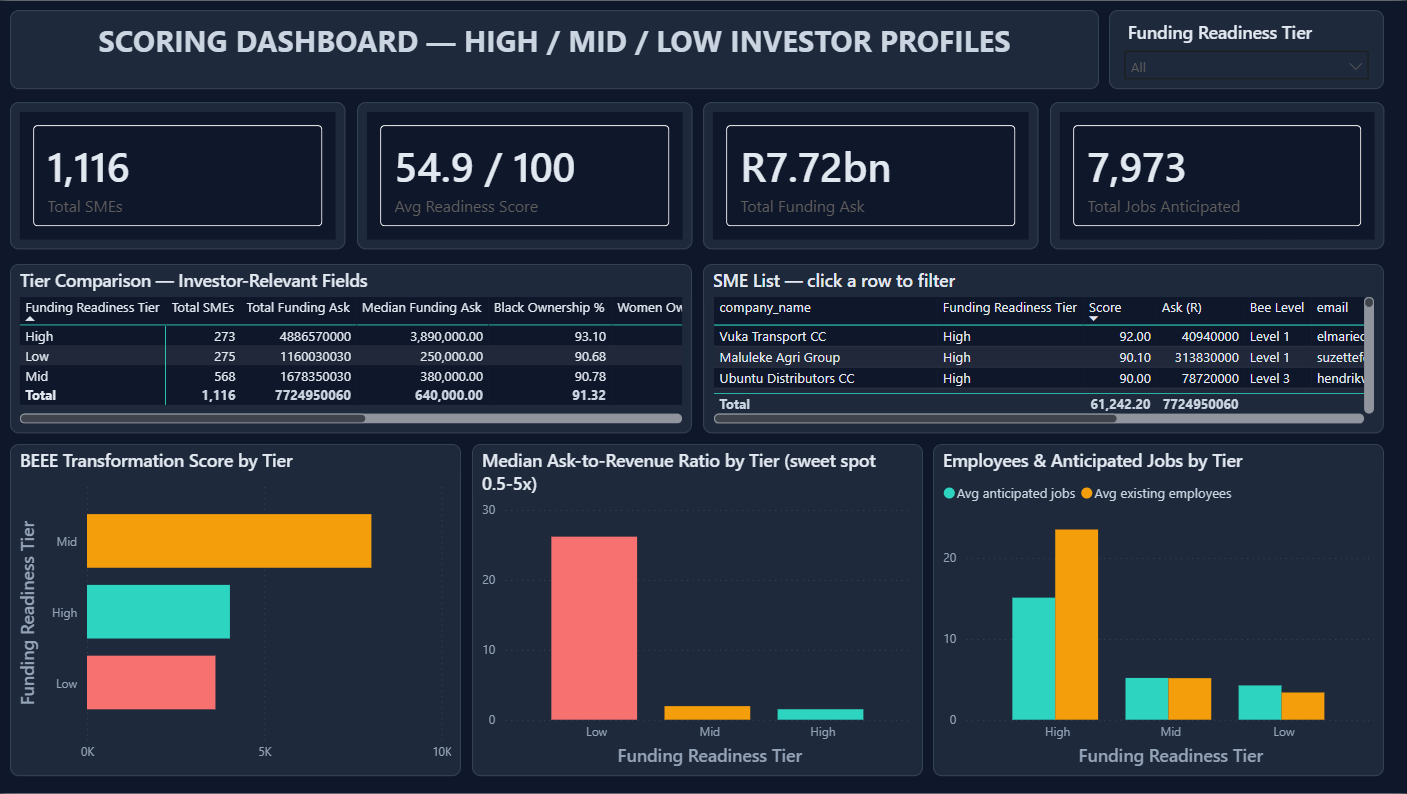

Layout of this report page (visuals, bound fields, positions):
{"tool":"powerbi","page":{"name":"Funding Readiness Tiers","canvas":[1280,720],"ordinal":1},"visuals":[{"type":"textbox","box":[9.9,8.1,990.2,71.8],"z":0},{"type":"slicer","fields":{"Values":["Funding Readiness.readiness_tier"]},"box":[1009.1,8.1,250.5,71.8],"z":1000},{"type":"cardVisual","fields":{"Data":["Clean Data.KPI Total SMEs"]},"box":[9.9,91.5,305.4,134.2],"z":2000},{"type":"cardVisual","fields":{"Data":["Clean Data.KPI Avg Score"]},"box":[325,91.5,305.4,134.2],"z":3000},{"type":"cardVisual","fields":{"Data":["Clean Data.KPI Total Ask"]},"box":[640.1,91.5,305.4,134.2],"z":4000},{"type":"cardVisual","fields":{"Data":["Funding Readiness.KPI Jobs"]},"box":[955.3,91.5,304.4,134.2],"z":5000},{"type":"pivotTable","title":"Tier Comparison — Investor-Relevant Fields","fields":{"Rows":["Funding Readiness.readiness_tier"],"Values":["Funding Readiness.Total SMEs","Funding Readiness.Total Funding Ask","Funding Readiness.Median Funding Ask","Avg(Funding Readiness.black_ownership_pct)","Avg(Funding Readiness.women_ownership_pct)","Avg(Funding Readiness.disability_ownership_pct)","Avg(Funding Readiness.youth_ownership_pct)","Funding Readiness.Avg Readiness Score"]},"box":[9.9,238.8,620.3,153.5],"z":6000},{"type":"clusteredBarChart","title":"BEEE Transformation Score by Tier","fields":{"Category":["Funding Readiness.readiness_tier"],"Y":["Sum(Funding Readiness.pts_transformation)"]},"box":[9.9,403.1,410.3,301.6],"z":7000},{"type":"clusteredColumnChart","title":"Median Ask-to-Revenue Ratio by Tier (sweet spot 0.5-5x)","fields":{"Category":["Funding Readiness.readiness_tier"],"Y":["Median(Funding Readiness.ask_to_revenue_ratio)"]},"box":[430,403.1,410.3,301.6],"z":8000},{"type":"tableEx","title":"SME List — click a row to filter","fields":{"Values":["Funding Readiness.company_name","Funding Readiness.Funding Readiness Tier","Sum(Funding Readiness.funding_readiness_score)","Sum(Funding Readiness.funding_ask_zar)","Clean Data.bee_level_raw","Clean Data.email","Clean Data.contact_number","Clean Data.contact_name"]},"box":[640.1,238.8,619.5,153.5],"z":9000},{"type":"clusteredColumnChart","title":"Employees & Anticipated Jobs by Tier","fields":{"Category":["Funding Readiness.readiness_tier"],"Y":["Avg(Funding Readiness.jobs_anticipated)","Avg(Funding Readiness.employees)"]},"box":[849.3,403.1,410.3,301.6],"z":10000}]}

Visuals, with their boxes in screenshot pixels (x1, y1, x2, y2), scaled from the page's 1280x720 canvas onto the 1407x794 screenshot:
textbox: bbox=(11, 9, 1099, 88)
slicer - Funding Readiness.readiness_tier: bbox=(1109, 9, 1385, 88)
cardVisual - Clean Data.KPI Total SMEs: bbox=(11, 101, 347, 249)
cardVisual - Clean Data.KPI Avg Score: bbox=(357, 101, 693, 249)
cardVisual - Clean Data.KPI Total Ask: bbox=(704, 101, 1039, 249)
cardVisual - Funding Readiness.KPI Jobs: bbox=(1050, 101, 1385, 249)
"Tier Comparison — Investor-Relevant Fields" pivotTable: bbox=(11, 263, 693, 433)
"BEEE Transformation Score by Tier" clusteredBarChart: bbox=(11, 445, 462, 777)
"Median Ask-to-Revenue Ratio by Tier (sweet spot 0.5-5x)" clusteredColumnChart: bbox=(473, 445, 924, 777)
"SME List — click a row to filter" tableEx: bbox=(704, 263, 1385, 433)
"Employees & Anticipated Jobs by Tier" clusteredColumnChart: bbox=(934, 445, 1385, 777)
